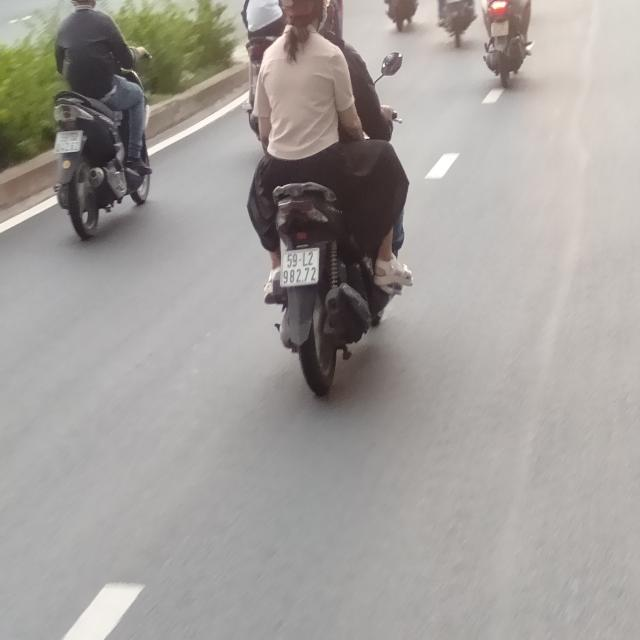bien_trang: (276, 250, 321, 290)
